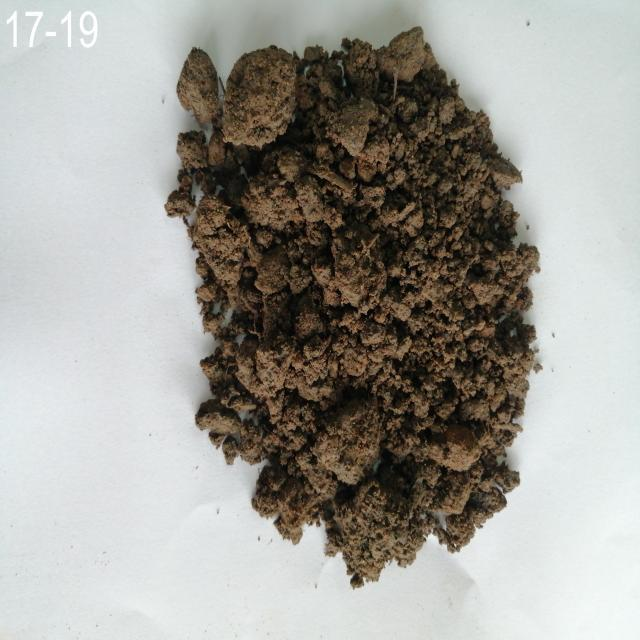soil: (248, 101, 482, 469)
